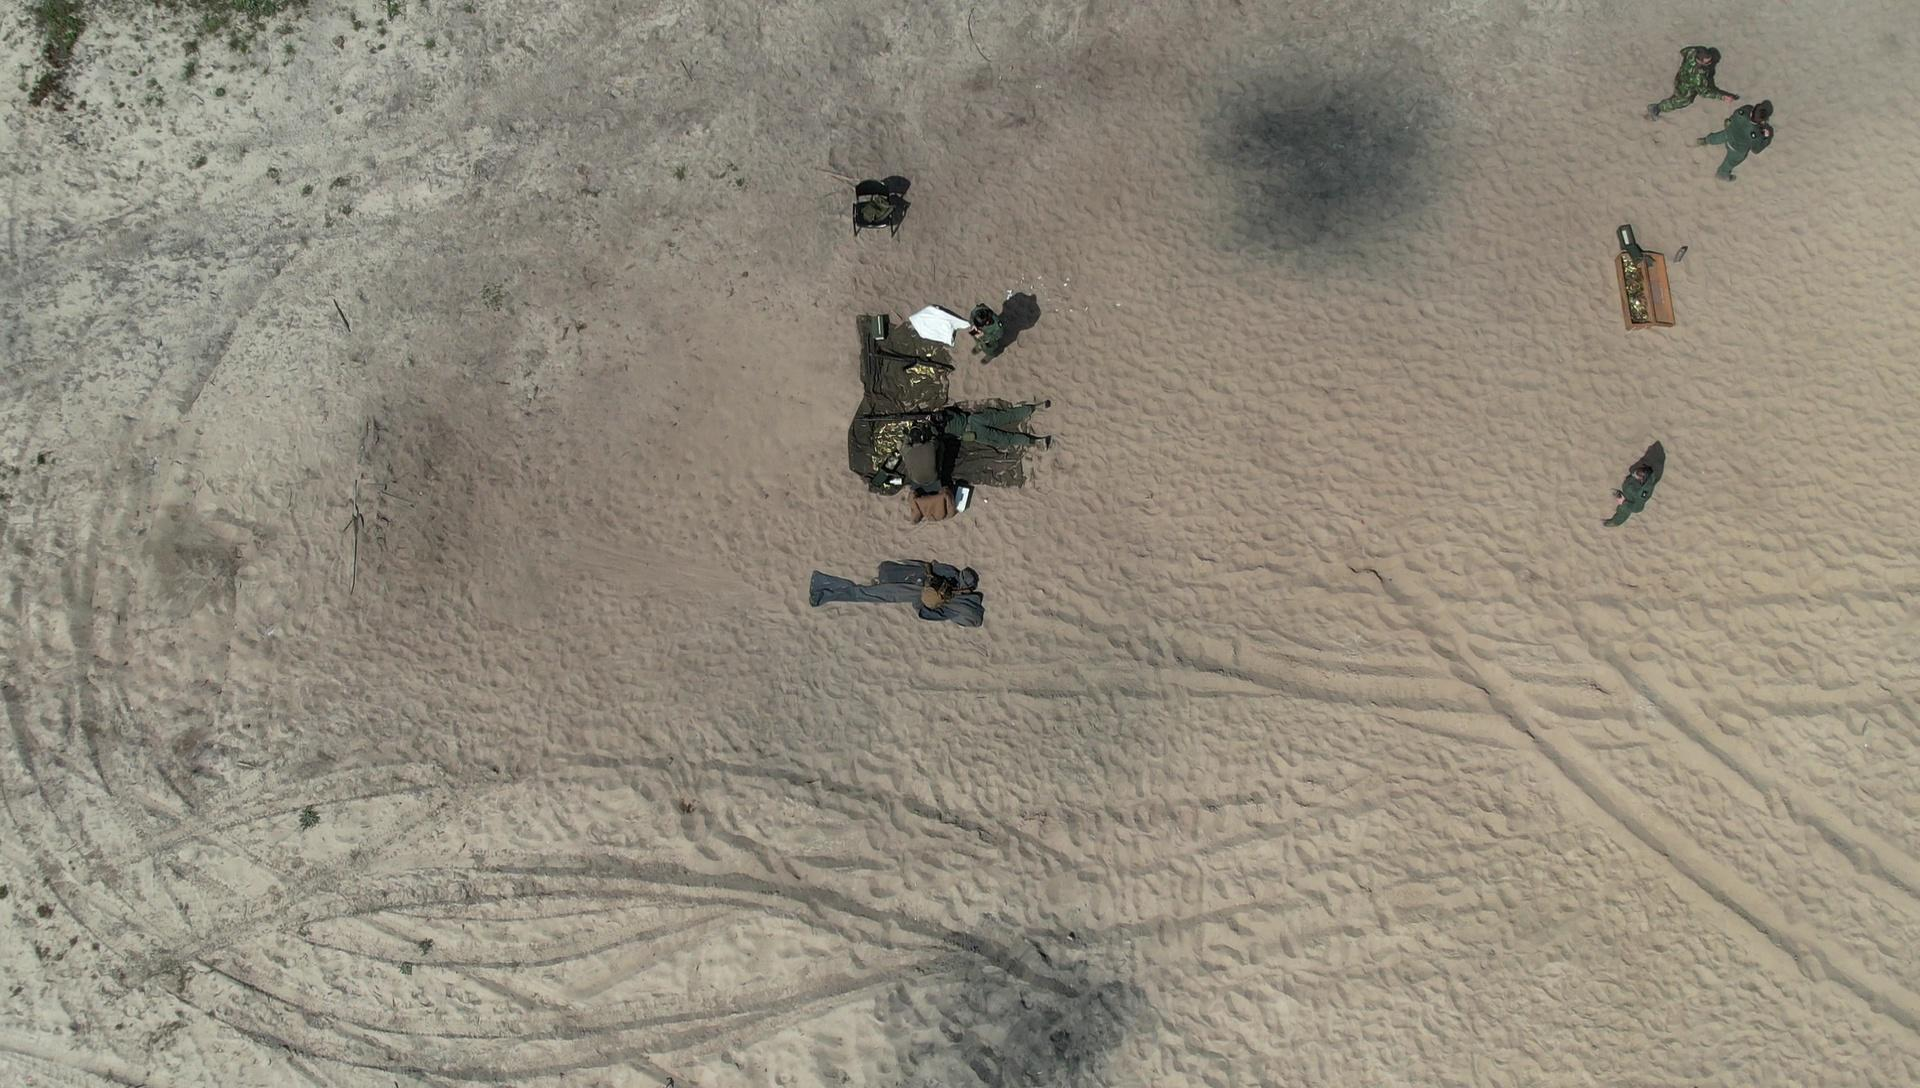Soldier: (1691, 74, 1772, 178), (1662, 34, 1746, 131), (910, 400, 1046, 458), (1607, 442, 1675, 531), (897, 417, 971, 495), (967, 294, 1036, 371)
